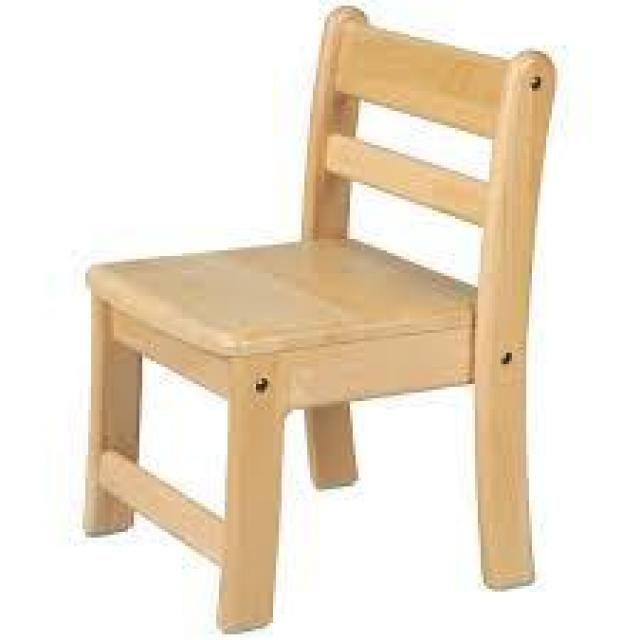chair: (70, 23, 553, 597)
